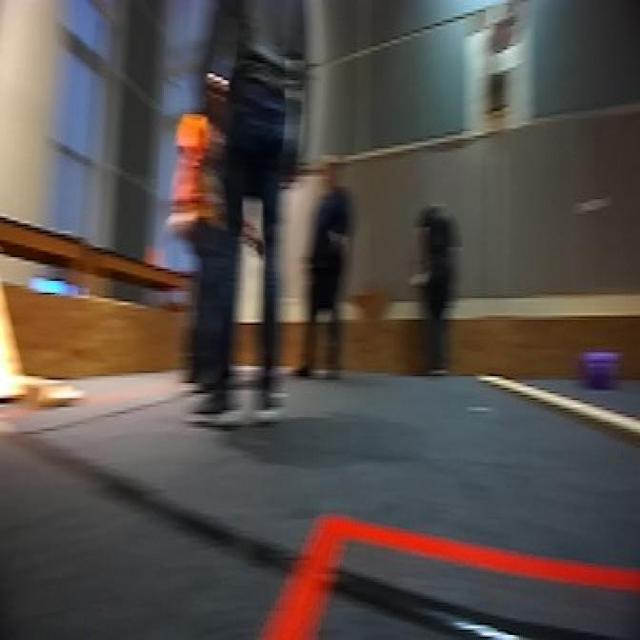frc_cube: (583, 351, 621, 393)
